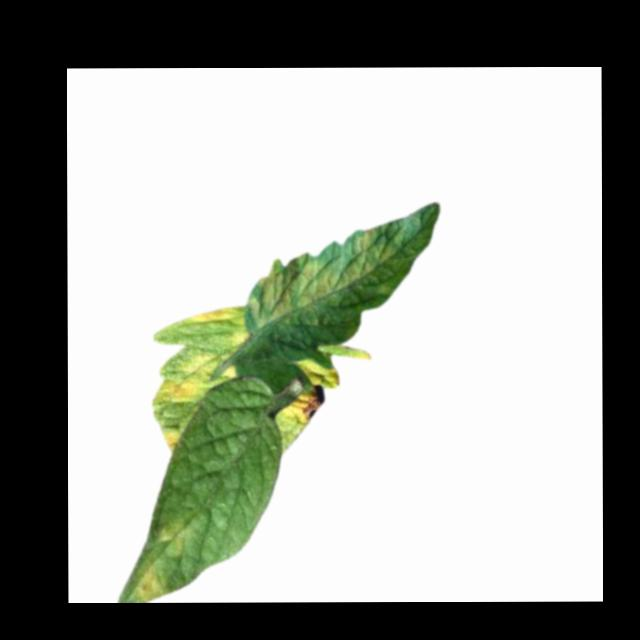Leaf_Mold: (248, 218, 405, 330), (152, 352, 238, 407), (282, 357, 339, 426), (156, 523, 189, 558), (135, 567, 168, 602), (182, 306, 240, 325), (161, 429, 181, 456)
